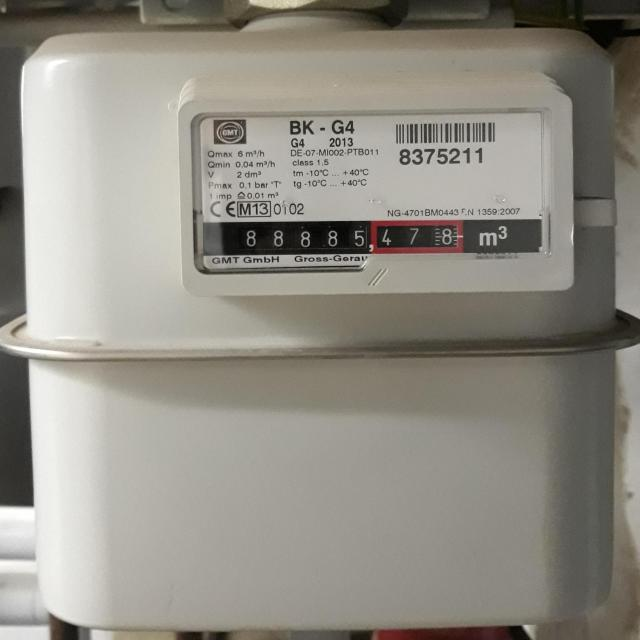gaz_meter: (193, 112, 552, 259)
indication: (219, 219, 462, 258)
